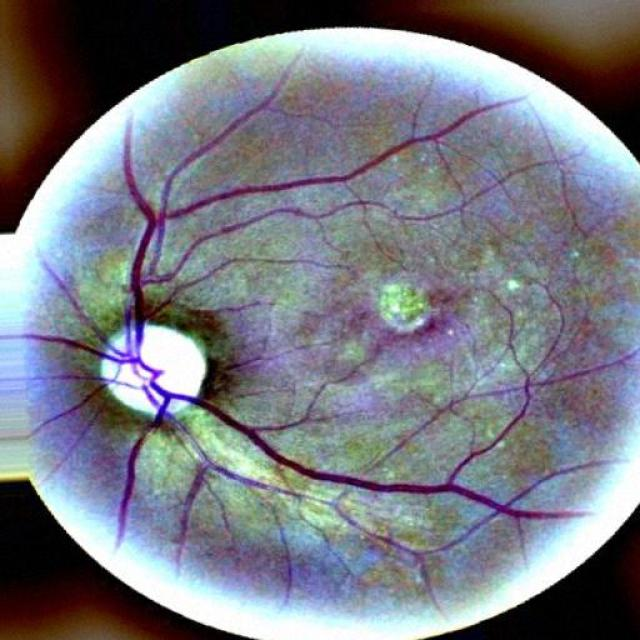Macula: (386, 279, 451, 335)
Nerves: (123, 97, 502, 386), (155, 384, 550, 523), (230, 337, 334, 371)
Optic Disk: (93, 316, 211, 425)
